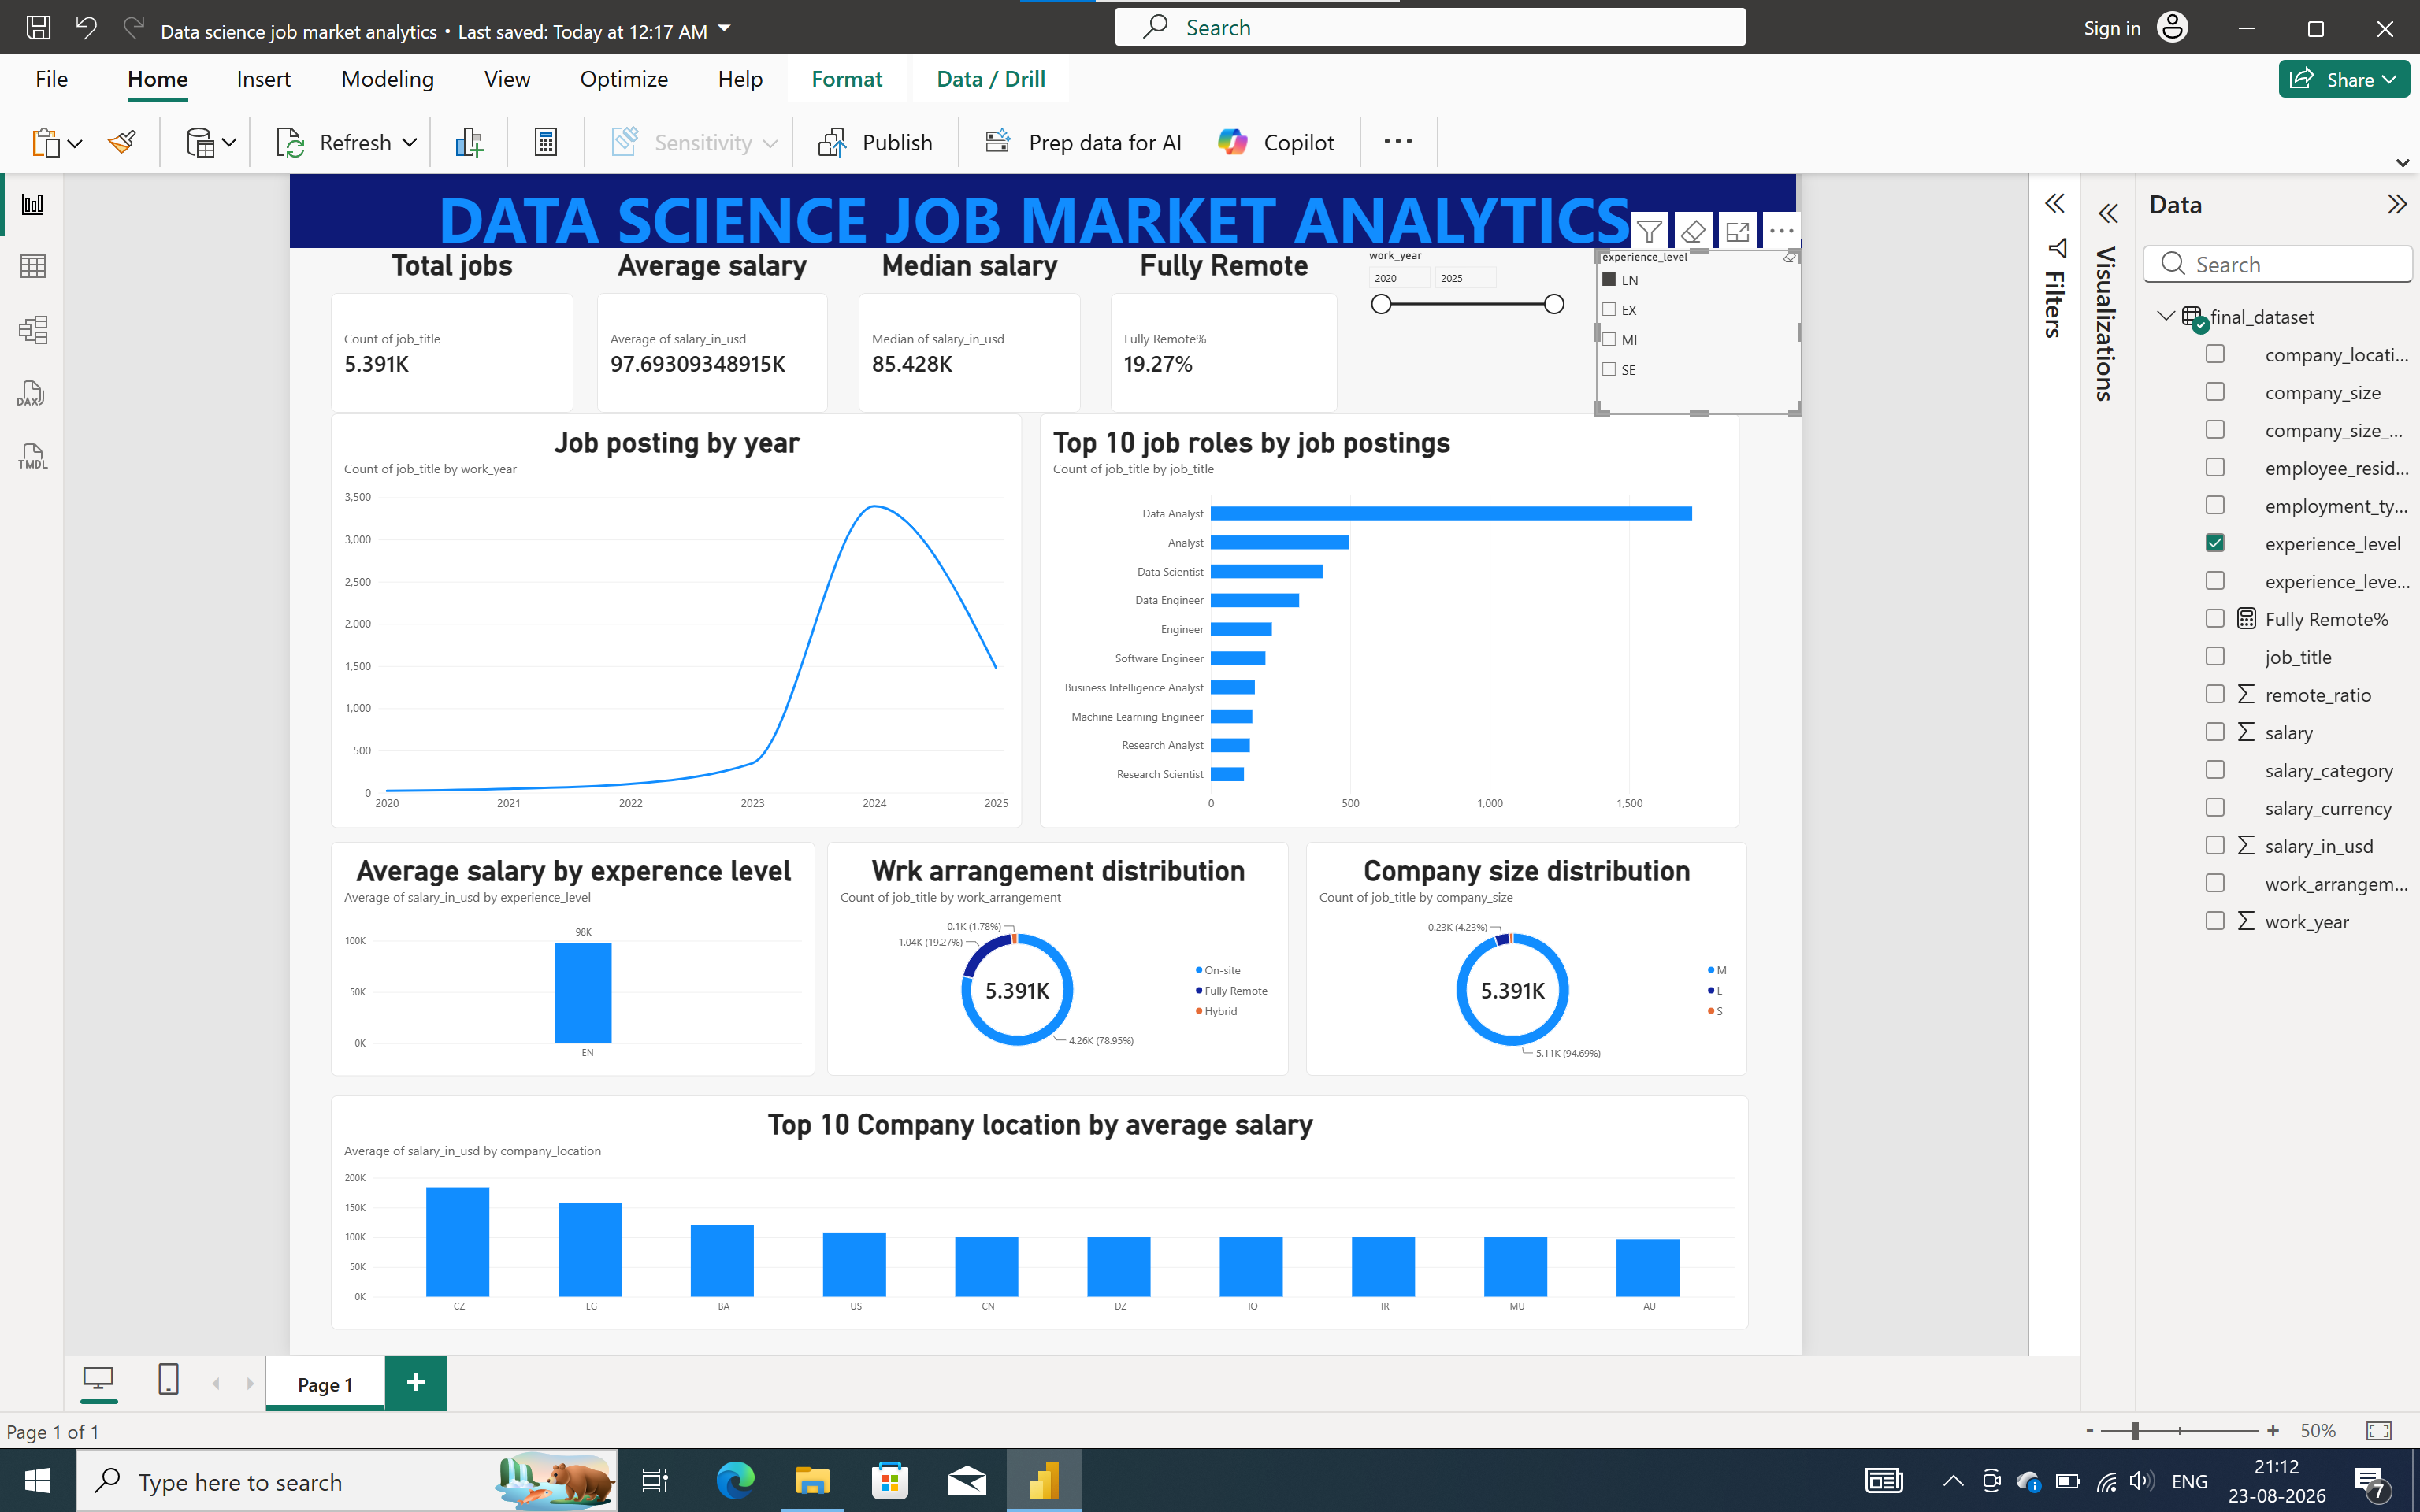

Layout of this report page (visuals, bound fields, positions):
{"tool":"powerbi","page":{"name":"Page 1","canvas":[1920,1500],"ordinal":0},"visuals":[{"type":"cardVisual","title":"Average salary","fields":{"Data":["Avg(final_dataset.salary_in_usd)"]},"box":[389.6,94.2,293.2,209.8],"z":1},{"type":"cardVisual","title":"Median salary","fields":{"Data":["Median(final_dataset.salary_in_usd)"]},"box":[721.3,94.2,282.5,209.8],"z":3},{"type":"cardVisual","title":"Fully Remote","fields":{"Data":["final_dataset.Fully Remote%"]},"box":[1042.4,94.2,289,209.8],"z":4},{"type":"lineChart","title":"Job posting by year ","fields":{"Category":["final_dataset.work_year"],"Y":["CountNonNull(final_dataset.job_title)"]},"box":[51.4,303.9,877.6,526.6],"z":5},{"type":"clusteredBarChart","title":"Top 10 job roles by job postings","fields":{"Category":["final_dataset.job_title"],"Y":["CountNonNull(final_dataset.job_title)"]},"box":[952.5,303.9,888.3,526.6],"z":6},{"type":"clusteredColumnChart","title":"Average salary by experence level ","fields":{"Category":["final_dataset.experience_level"],"Y":["Avg(final_dataset.salary_in_usd)"]},"box":[51.4,847.6,615.2,297.7],"z":7},{"type":"donutChart","title":"Wrk arrangement distribution","fields":{"Category":["final_dataset.work_arrangement"],"Y":["CountNonNull(final_dataset.job_title)"]},"box":[682.8,847.6,586,297],"z":8},{"type":"cardVisual","title":"Total jobs","fields":{"Data":["CountNonNull(final_dataset.job_title)"]},"box":[51.4,94.2,308.2,209.8],"z":9},{"type":"donutChart","title":"Company size distribution ","fields":{"Category":["final_dataset.company_size"],"Y":["CountNonNull(final_dataset.job_title)"]},"box":[1290.7,847.6,560,297],"z":10},{"type":"clusteredColumnChart","title":"Top 10 Company location by average  salary","fields":{"Category":["final_dataset.company_location"],"Y":["Avg(final_dataset.salary_in_usd)"]},"box":[51.4,1170.8,1800.1,297.5],"z":11},{"type":"textbox","box":[0,0,1920,94.2],"z":12},{"type":"slicer","fields":{"Values":["final_dataset.work_year"]},"box":[1362,94,259,209.8],"z":13},{"type":"slicer","fields":{"Values":["final_dataset.experience_level"]},"box":[1658,96,262,210],"z":14}]}

Visuals, with their boxes on the page's 1920x1500 design canvas (x1, y1, x2, y2). These are canvas units, not pixel positions in the 2420x1512 screenshot, which may show the page scaled, cropped or inside an application window:
"Average salary" cardVisual: box=[390, 94, 683, 304]
"Median salary" cardVisual: box=[721, 94, 1004, 304]
"Fully Remote" cardVisual: box=[1042, 94, 1331, 304]
"Job posting by year " lineChart: box=[51, 304, 929, 830]
"Top 10 job roles by job postings" clusteredBarChart: box=[952, 304, 1841, 830]
"Average salary by experence level " clusteredColumnChart: box=[51, 848, 667, 1145]
"Wrk arrangement distribution" donutChart: box=[683, 848, 1269, 1145]
"Total jobs" cardVisual: box=[51, 94, 360, 304]
"Company size distribution " donutChart: box=[1291, 848, 1851, 1145]
"Top 10 Company location by average  salary" clusteredColumnChart: box=[51, 1171, 1852, 1468]
textbox: box=[0, 0, 1920, 94]
slicer - final_dataset.work_year: box=[1362, 94, 1621, 304]
slicer - final_dataset.experience_level: box=[1658, 96, 1920, 306]
